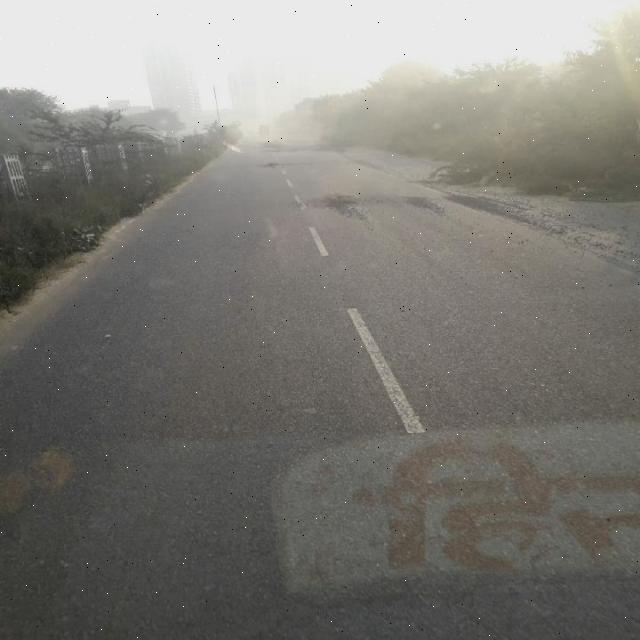D20: (319, 189, 377, 234), (401, 191, 446, 219)
